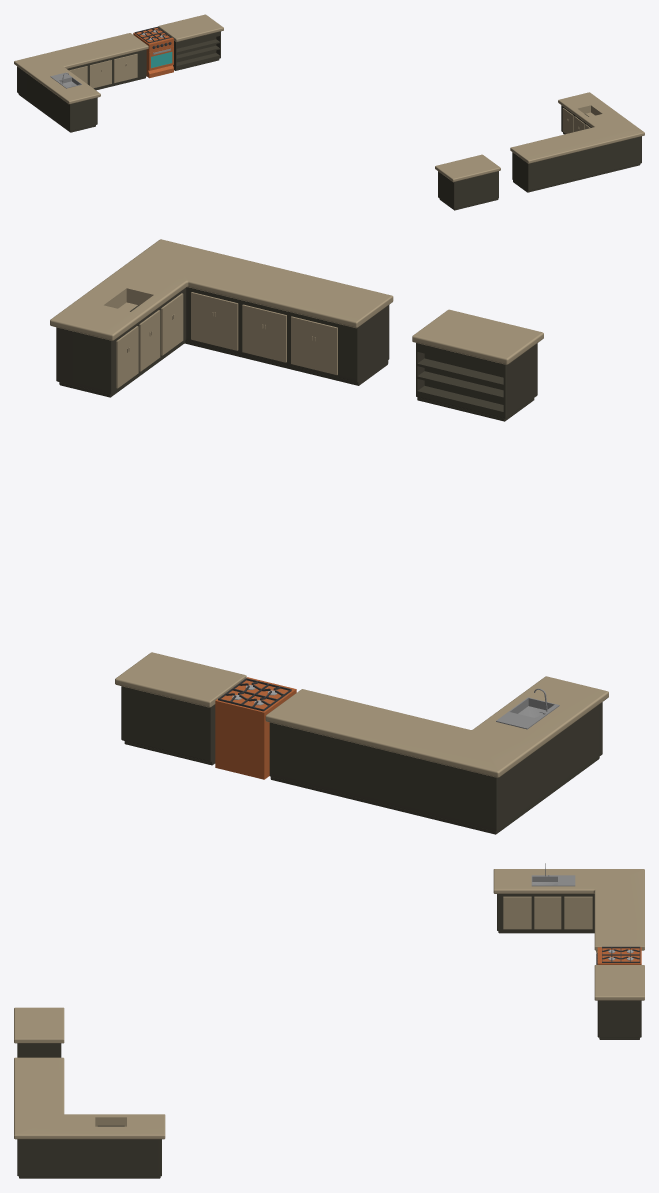
File: Kitchen1_Updated.fbx
The picture shows the model from 3 angles, top to bottom: view 1: azimuth 30°, elevation 25°; view 2: azimuth 150°, elevation 25°; view 3: azimuth 270°, elevation 25°; orthographic projection. The views are drawn at different scales.
Visible parts, largest first — view 1: Countertop_1 (×2), BaseCabinet_1 (×2), BaseCabinet_2 (×2), Countertop_2 (×2), Stove_Body, Stove_Door; view 2: Countertop_1 (×2), BaseCabinet_1 (×2), BaseCabinet_2 (×2), Countertop_2 (×2), Stove_Body, CabinetDoor_R4, CabinetDoor_L4, CabinetDoor_R6, CabinetDoor_L6, CabinetDoor_R5, Sink, CabinetDoor_L5 (+3 smaller); view 3: Countertop_1 (×2), BaseCabinet_1 (×2), Countertop_2 (×2), BaseCabinet_2 (×2), Stove_Body, Sink, CabinetDoor_R1, CabinetDoor_R3, CabinetDoor_L1, CabinetDoor_L3, CabinetDoor_L2, CabinetDoor_R2 (+1 smaller).
Boxes of the visible parts, <box> form: Countertop_1 (×2): <box>14,33,644,163</box>; BaseCabinet_1 (×2): <box>17,49,641,192</box>; BaseCabinet_2 (×2): <box>173,31,498,210</box>; Countertop_2 (×2): <box>158,14,500,182</box>; Stove_Body: <box>133,28,173,78</box>; Stove_Door: <box>148,46,173,70</box>; Countertop_1 (×2): <box>50,239,608,777</box>; BaseCabinet_1 (×2): <box>56,287,602,834</box>; BaseCabinet_2 (×2): <box>121,343,537,765</box>; Countertop_2 (×2): <box>115,309,543,707</box>; Stove_Body: <box>215,677,296,779</box>; CabinetDoor_R4: <box>214,297,238,350</box>; CabinetDoor_L4: <box>191,292,214,344</box>; CabinetDoor_R6: <box>314,322,337,374</box>; CabinetDoor_L6: <box>291,316,314,369</box>; CabinetDoor_R5: <box>264,310,286,362</box>; Sink: <box>496,697,559,729</box>; CabinetDoor_L5: <box>242,304,264,357</box>; Countertop_1 (×2): <box>14,869,644,1139</box>; BaseCabinet_1 (×2): <box>17,894,594,1178</box>; Countertop_2 (×2): <box>14,965,644,1043</box>; BaseCabinet_2 (×2): <box>17,1000,641,1057</box>; Stove_Body: <box>597,947,641,964</box>; Sink: <box>531,875,575,886</box>; CabinetDoor_R1: <box>517,896,531,929</box>; CabinetDoor_R3: <box>578,896,592,929</box>; CabinetDoor_L1: <box>503,896,517,929</box>; CabinetDoor_L3: <box>564,896,578,929</box>; CabinetDoor_L2: <box>534,896,547,929</box>; CabinetDoor_R2: <box>548,896,561,929</box>.
Bounding box in the file's own units: 12.5 × 1.33 × 12.5.
